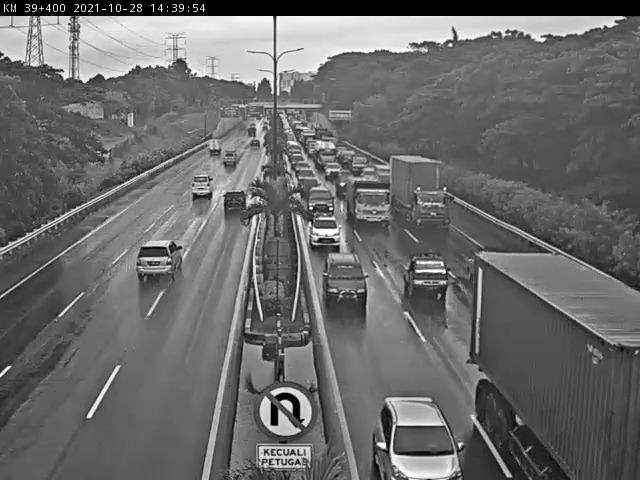big truck: (470, 248, 639, 480), (388, 153, 447, 228), (343, 176, 388, 222)
car: (374, 395, 464, 480), (321, 250, 366, 302), (134, 241, 183, 278), (405, 252, 447, 295), (308, 212, 338, 246), (306, 184, 331, 211), (190, 174, 212, 198), (224, 192, 249, 212), (297, 172, 318, 193), (223, 150, 238, 168)
